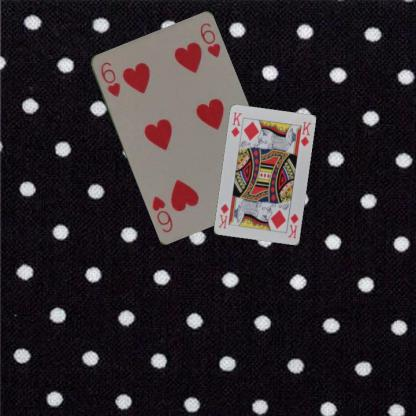6h: (98, 59, 121, 98)
Kd: (285, 211, 300, 240), (229, 110, 243, 138)
